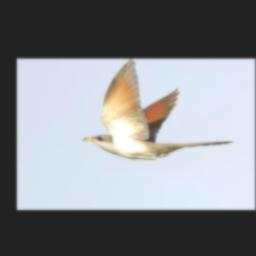Cuckoo: (83, 59, 234, 158)
